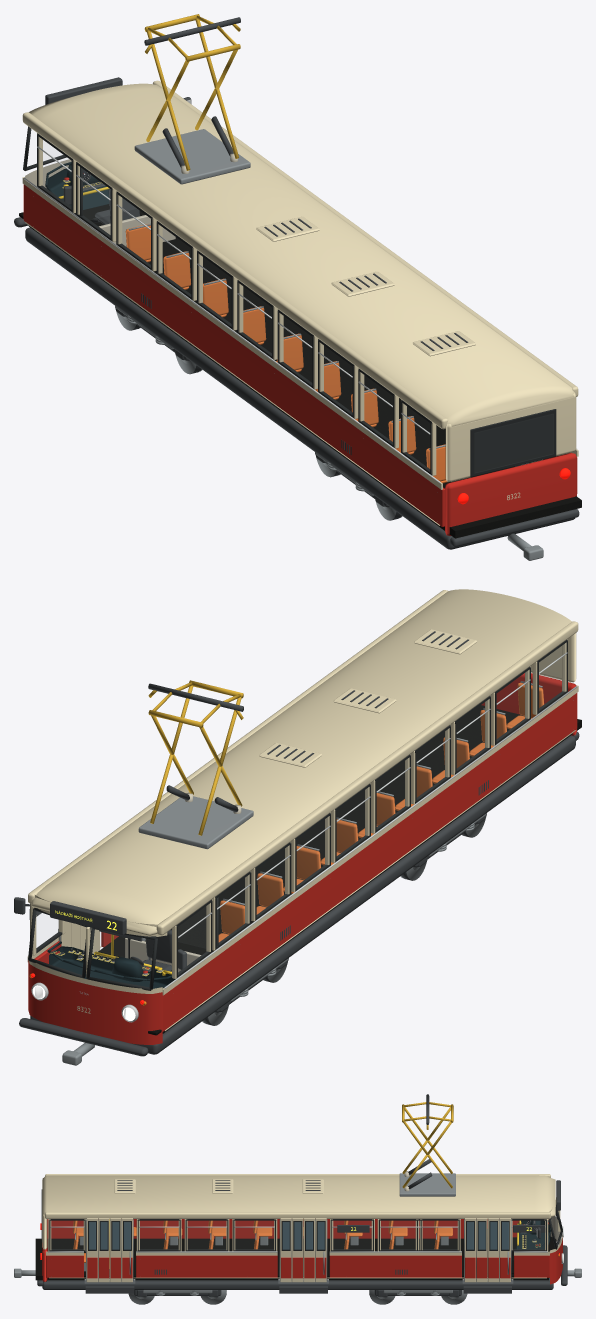
Rendered from tram.glb.
3 renders of one model, top to bottom at view 1: azimuth 30°, elevation 25°; view 2: azimuth 150°, elevation 25°; view 3: azimuth 270°, elevation 25°, orthographic. The views are drawn at different scales.
Visible parts, largest first — view 1: Tatra warm ivory, DPP vermilion enamel, Chassis graphite, Window seals and rubber, Dark rubber floor, Moulded orange passenger seats, Brushed steel, Pantograph painted ochre steel, Chrome trim, DetailedCabin_Dashboard worn dark grey green, DetailedCabin_Interior cream laminate, DetailedCabin_Chassis graphite; view 2: Tatra warm ivory, DPP vermilion enamel, Chassis graphite, Dark rubber floor, Window seals and rubber, Moulded orange passenger seats, Brushed steel, Pantograph painted ochre steel, Chrome trim, DetailedCabin_Dashboard worn dark grey green, DetailedCabin_Chassis graphite; view 3: Tatra warm ivory, DPP vermilion enamel, Chassis graphite, Dark rubber floor, Brushed steel, Window seals and rubber, Moulded orange passenger seats, Pantograph painted ochre steel, Chrome trim, door_front_leaf3, door_middle_leaf1, door_middle_leaf2 (+10 smaller).
Boxes of the visible parts, bbox=[...] form: Tatra warm ivory: bbox=[22, 80, 578, 525]; DPP vermilion enamel: bbox=[23, 184, 577, 535]; Chassis graphite: bbox=[14, 17, 579, 549]; Window seals and rubber: bbox=[23, 126, 556, 476]; Dark rubber floor: bbox=[28, 225, 581, 538]; Moulded orange passenger seats: bbox=[125, 224, 448, 483]; Brushed steel: bbox=[33, 129, 543, 560]; Pantograph painted ochre steel: bbox=[144, 14, 240, 170]; Chrome trim: bbox=[23, 146, 576, 483]; DetailedCabin_Dashboard worn dark grey green: bbox=[45, 162, 109, 209]; DetailedCabin_Interior cream laminate: bbox=[24, 159, 175, 246]; DetailedCabin_Chassis graphite: bbox=[63, 97, 191, 224]; Tatra warm ivory: bbox=[27, 589, 578, 1031]; DPP vermilion enamel: bbox=[28, 673, 577, 1044]; Chassis graphite: bbox=[19, 631, 579, 1056]; Dark rubber floor: bbox=[98, 705, 581, 1033]; Window seals and rubber: bbox=[28, 639, 567, 990]; Moulded orange passenger seats: bbox=[218, 682, 544, 942]; Brushed steel: bbox=[62, 681, 573, 1065]; Pantograph painted ochre steel: bbox=[148, 680, 243, 835]; Chrome trim: bbox=[31, 652, 577, 1022]; DetailedCabin_Dashboard worn dark grey green: bbox=[47, 941, 175, 988]; DetailedCabin_Chassis graphite: bbox=[14, 897, 186, 971]; Tatra warm ivory: bbox=[42, 1174, 562, 1278]; DPP vermilion enamel: bbox=[42, 1219, 562, 1284]; Chassis graphite: bbox=[37, 1094, 567, 1300]; Dark rubber floor: bbox=[35, 1238, 548, 1280]; Brushed steel: bbox=[14, 1173, 581, 1304]; Window seals and rubber: bbox=[41, 1189, 562, 1251]; Moulded orange passenger seats: bbox=[73, 1219, 452, 1262]; Pantograph painted ochre steel: bbox=[402, 1102, 453, 1188]; Chrome trim: bbox=[48, 1226, 563, 1263]; door_front_leaf3: bbox=[499, 1218, 511, 1282]; door_middle_leaf1: bbox=[291, 1218, 303, 1282]; door_middle_leaf2: bbox=[303, 1218, 315, 1282].
Size of the model in its own units: 2.95 by 5.39 by 15.1.
Materials: 22 (2 with a texture image).
